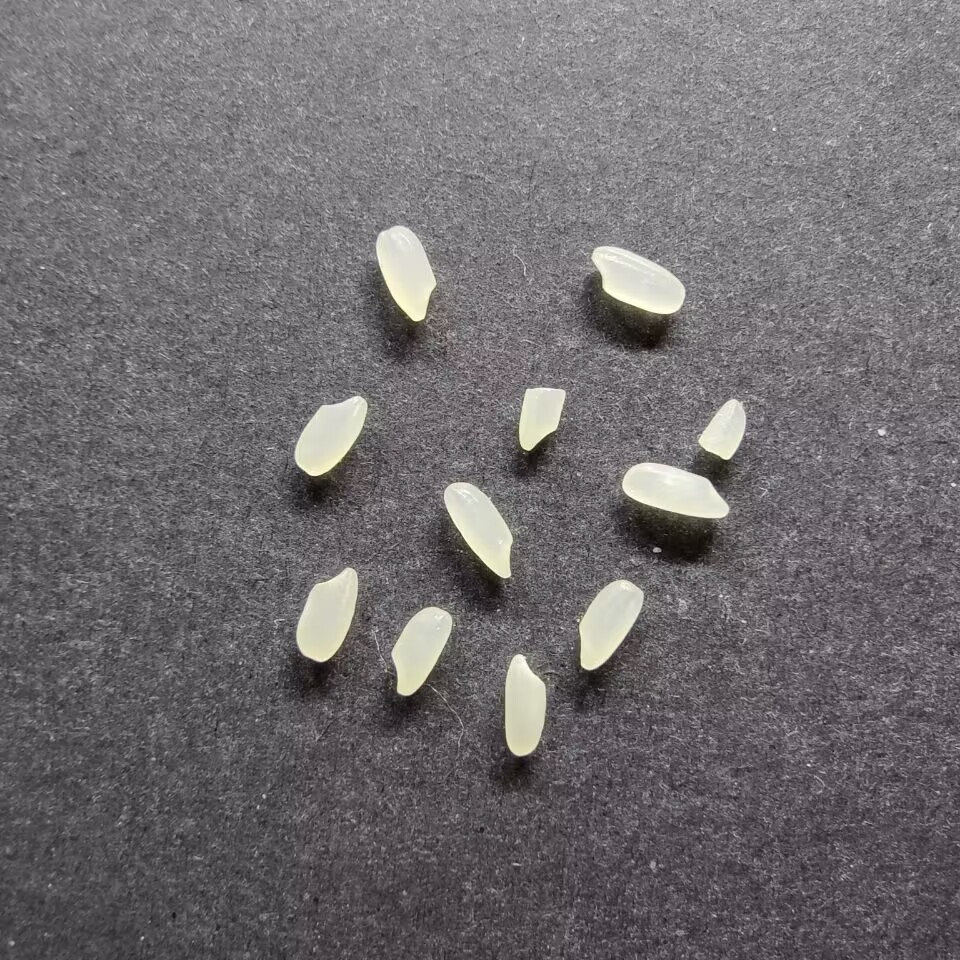broken: (698, 397, 747, 460), (518, 387, 566, 450)
rice: (442, 481, 514, 582), (590, 244, 687, 315), (620, 461, 730, 520), (577, 578, 645, 670), (295, 564, 358, 662), (374, 225, 436, 322), (293, 395, 367, 476), (389, 606, 452, 697), (503, 654, 545, 756)
